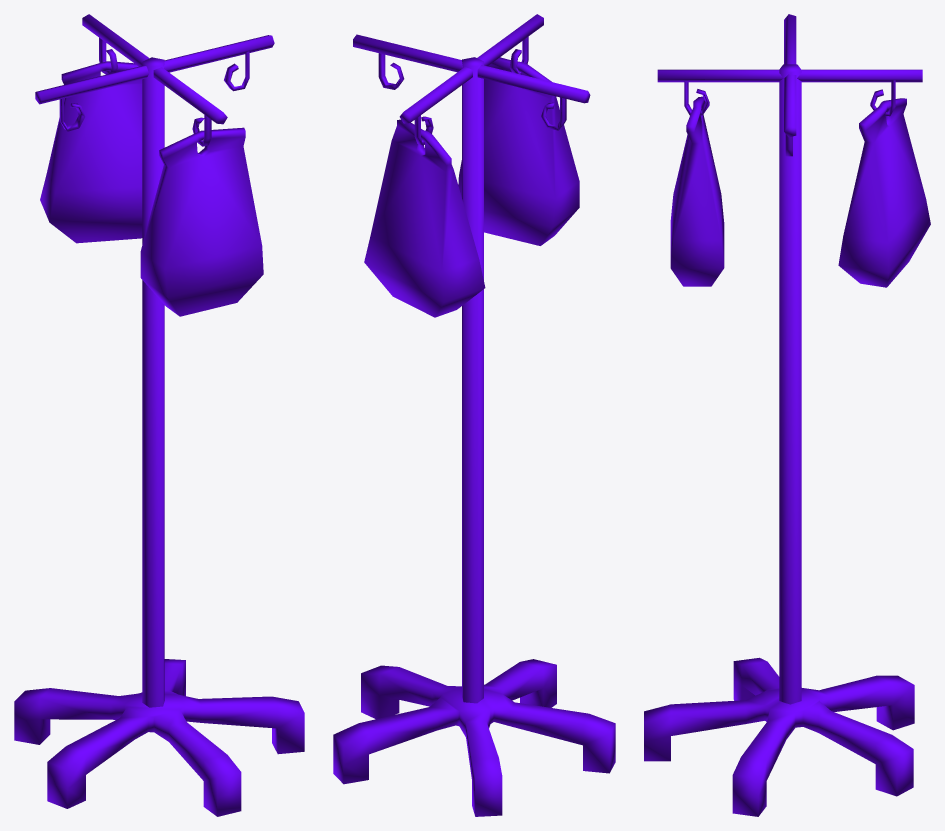
The model's file is hospital_staff_dripStand_1_meshCollider.fbx.
3 renders of one model, left to right at view 1: azimuth 30°, elevation 25°; view 2: azimuth 150°, elevation 25°; view 3: azimuth 270°, elevation 25°, orthographic.
Parts seen in each view (by area): view 1: hospital_staff_dripStand_1_meshCollider, hospital_staff_dripStand_bag_1_meshCollider, hospital_staff_dripStand_bag_2_meshCollider; view 2: hospital_staff_dripStand_1_meshCollider, hospital_staff_dripStand_bag_2_meshCollider, hospital_staff_dripStand_bag_1_meshCollider; view 3: hospital_staff_dripStand_1_meshCollider, hospital_staff_dripStand_bag_2_meshCollider, hospital_staff_dripStand_bag_1_meshCollider.
Part boxes in pixels (left/top/right/bottom): hospital_staff_dripStand_1_meshCollider: left=14, top=14, right=304, bottom=816; hospital_staff_dripStand_bag_1_meshCollider: left=140, top=127, right=263, bottom=316; hospital_staff_dripStand_bag_2_meshCollider: left=40, top=61, right=142, bottom=243; hospital_staff_dripStand_1_meshCollider: left=333, top=14, right=615, bottom=816; hospital_staff_dripStand_bag_2_meshCollider: left=364, top=119, right=485, bottom=317; hospital_staff_dripStand_bag_1_meshCollider: left=458, top=57, right=579, bottom=245; hospital_staff_dripStand_1_meshCollider: left=644, top=14, right=922, bottom=816; hospital_staff_dripStand_bag_2_meshCollider: left=838, top=98, right=930, bottom=287; hospital_staff_dripStand_bag_1_meshCollider: left=670, top=96, right=724, bottom=286.
Bounding box in the file's own units: 28.92 × 76.84 × 29.08.
